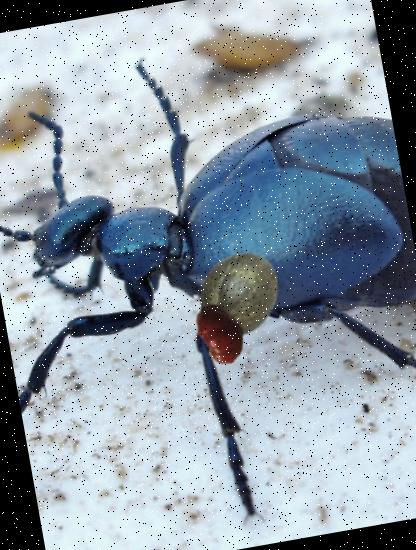Melon: (187, 243, 288, 344)
Tomato: (186, 296, 258, 370)
